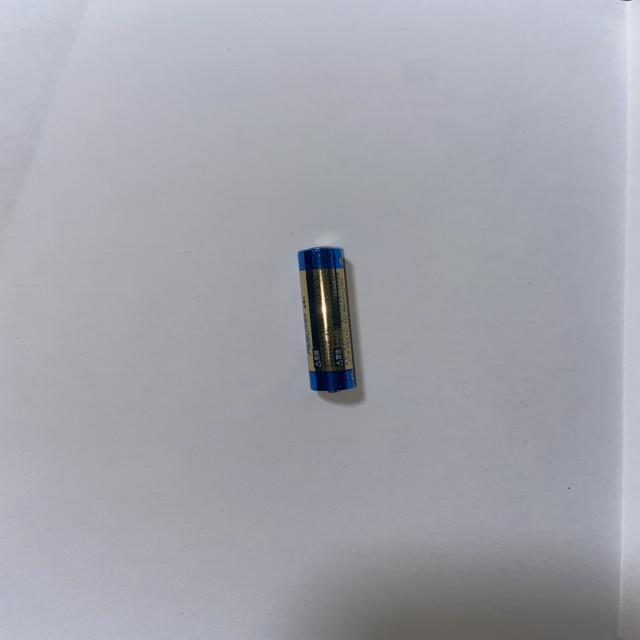Hazard: (297, 246, 358, 394)
